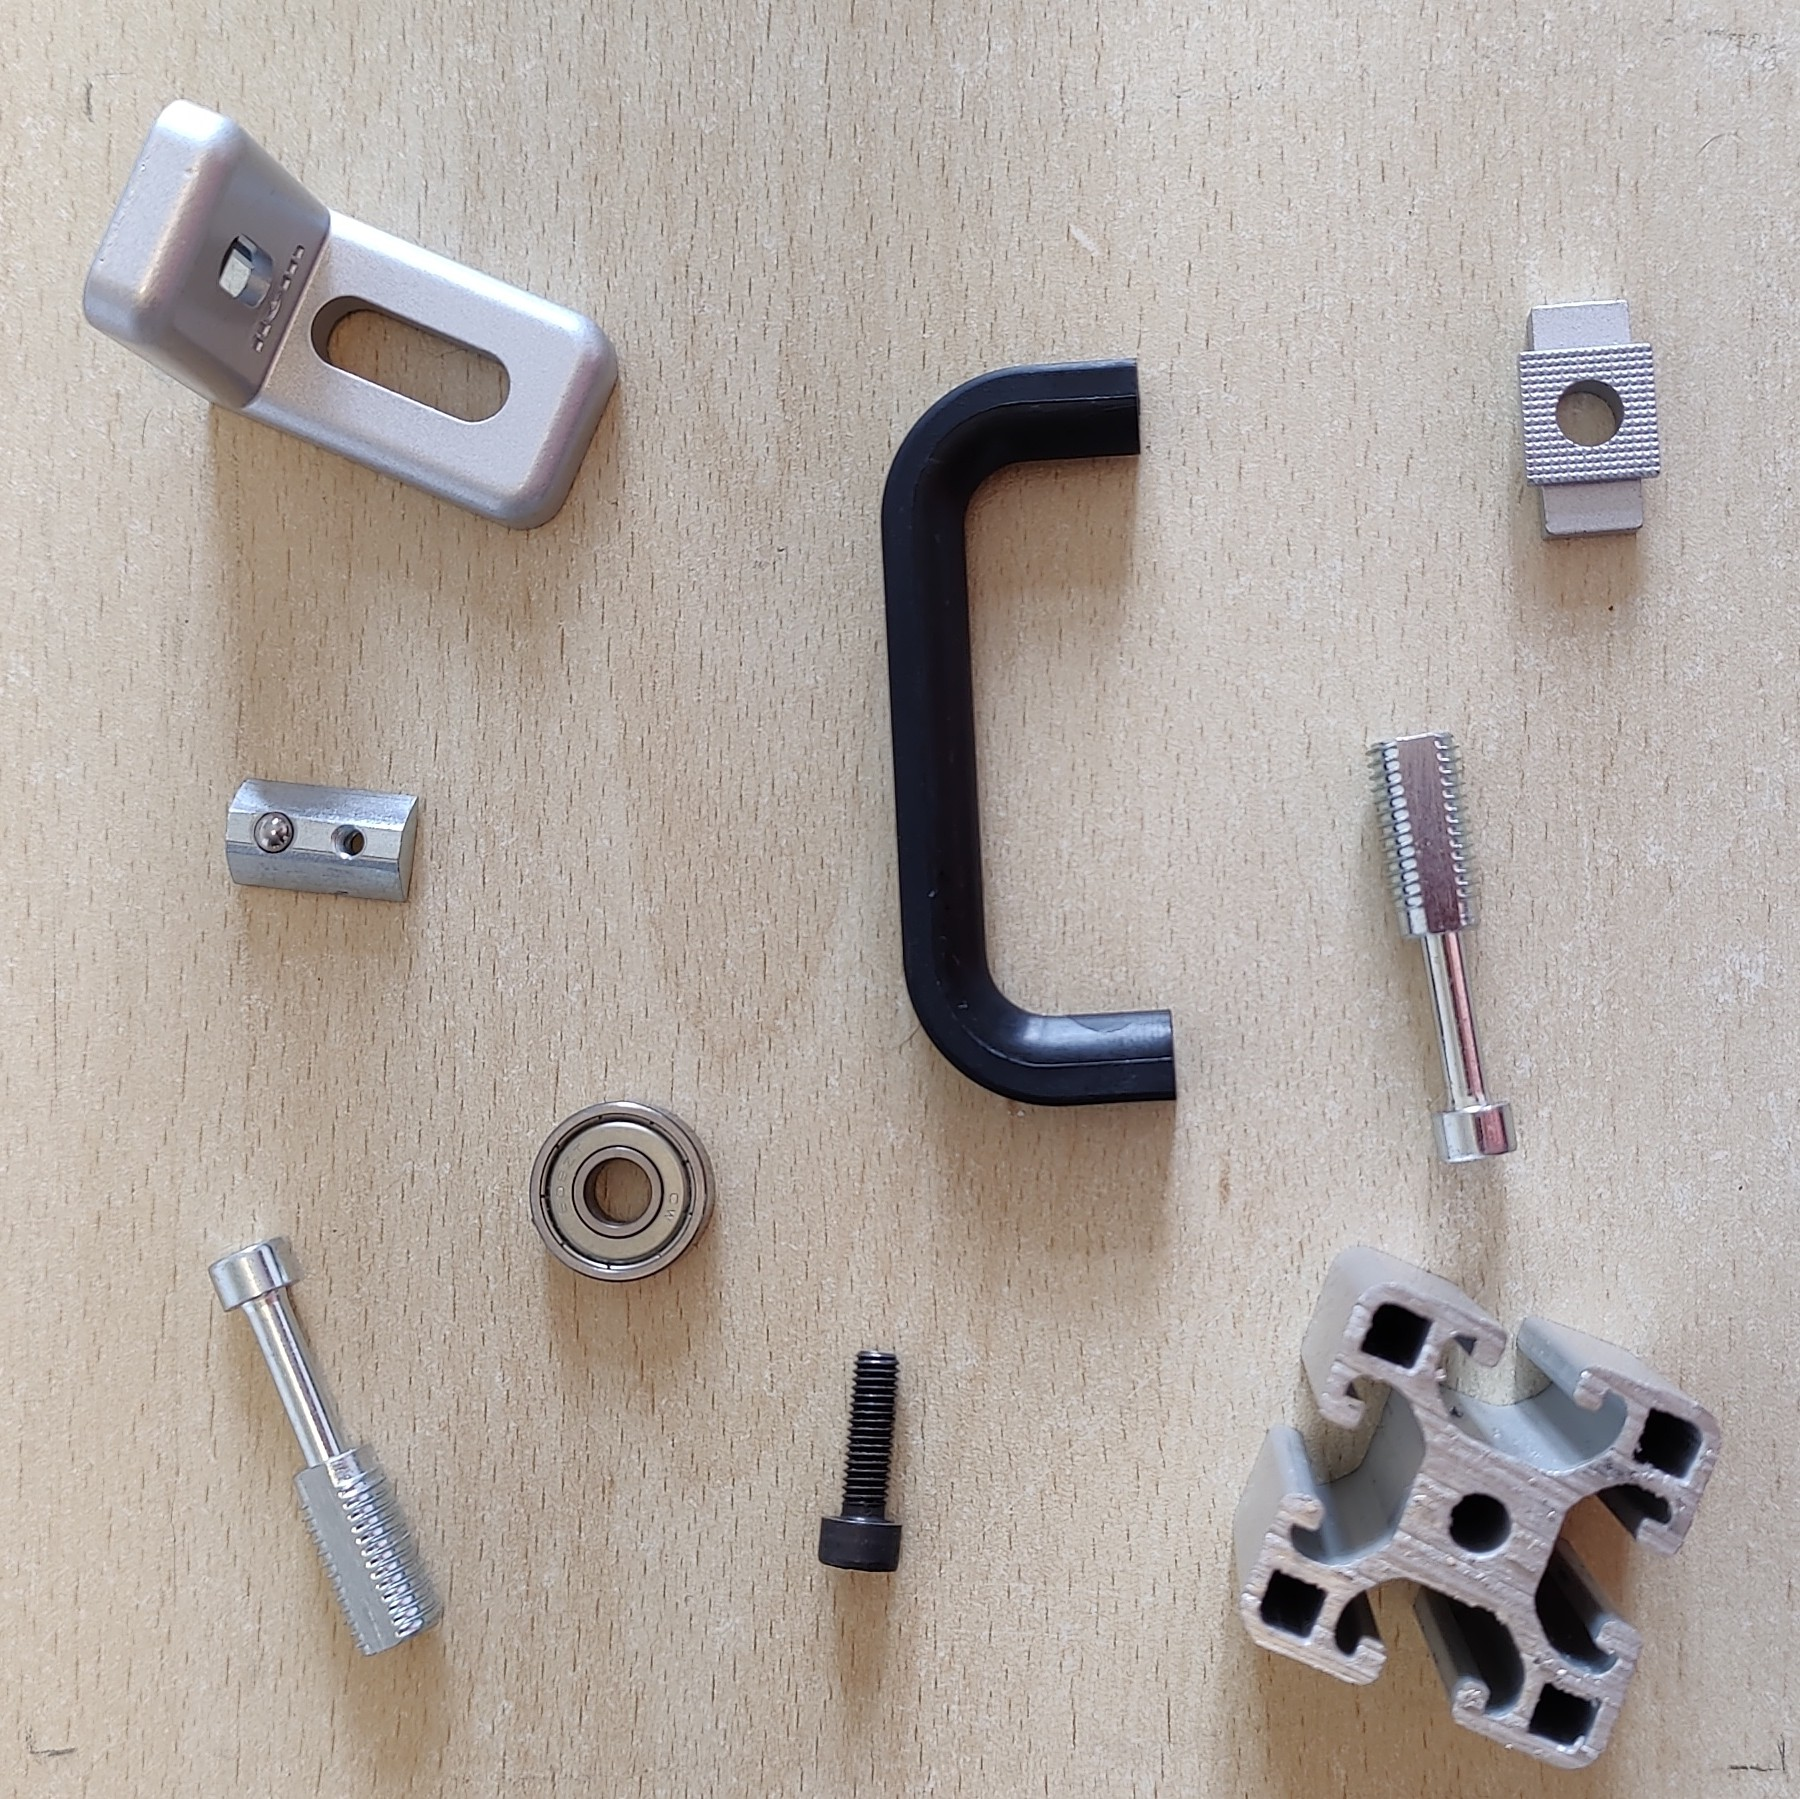Aluminium Extension: (1229, 1242, 1724, 1773)
Ball Bearing: (529, 1096, 716, 1285)
Multiwinkel: (77, 96, 621, 534)
Pull Handle: (878, 357, 1179, 1110)
Shoulder Socket Head Cap Screw: (204, 1231, 448, 1657), (1362, 727, 1522, 1166)
Socket Head Cap Screw: (815, 1349, 906, 1577)
T Nut Square: (1513, 298, 1667, 544)
T Spring Nut: (222, 776, 423, 904)
